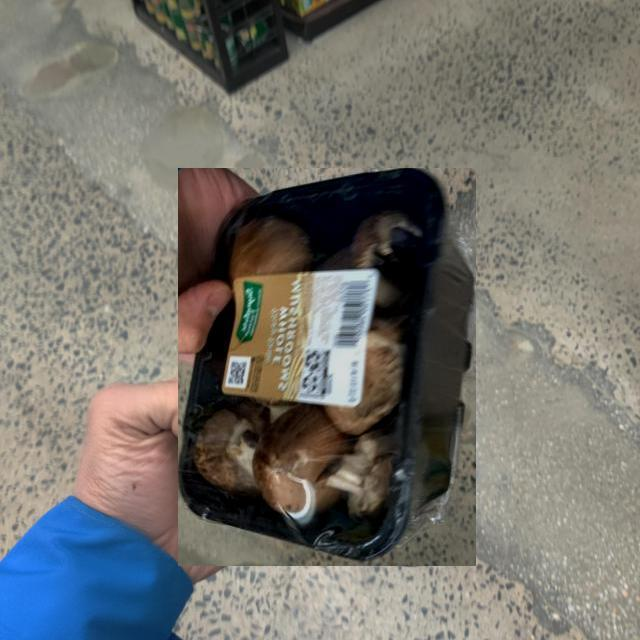Mushroom: (178, 168, 476, 566)
